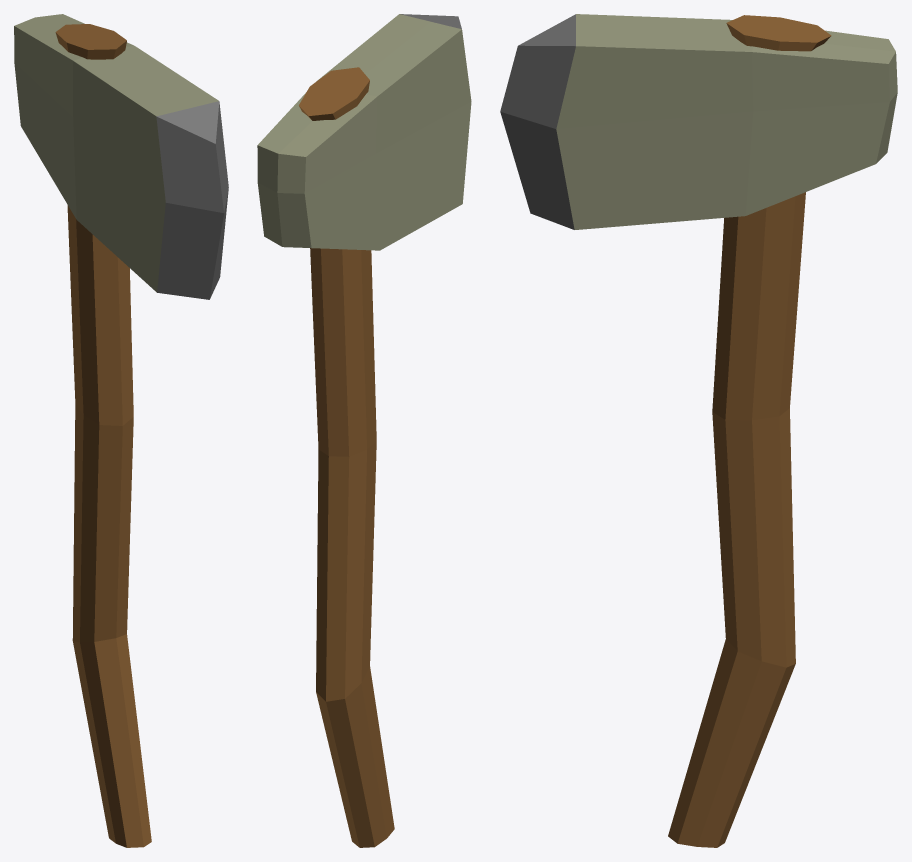
The model's file is Manual Code Test.glb.
3 views of the same model, side by side, from view 1: azimuth 30°, elevation 25°; view 2: azimuth 150°, elevation 25°; view 3: azimuth 270°, elevation 25° (orthographic). The views are drawn at different scales.
Visible parts, largest first — view 1: Axe Generator; view 2: Axe Generator; view 3: Axe Generator.
Part boxes in pixels (x1=…): Axe Generator: x1=14, y1=14, x2=228, y2=847; Axe Generator: x1=257, y1=14, x2=471, y2=847; Axe Generator: x1=500, y1=14, x2=897, y2=847.
Size of the model in its own units: 0.0765 by 0.9097 by 0.3997.
